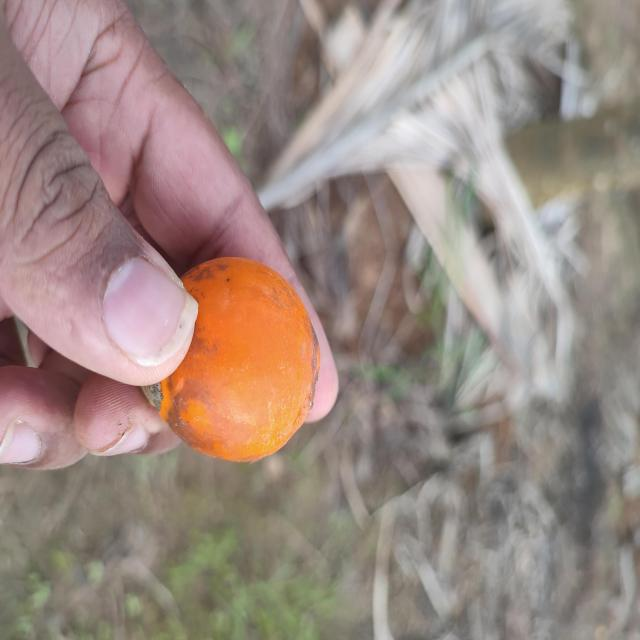good: (144, 257, 340, 465)
